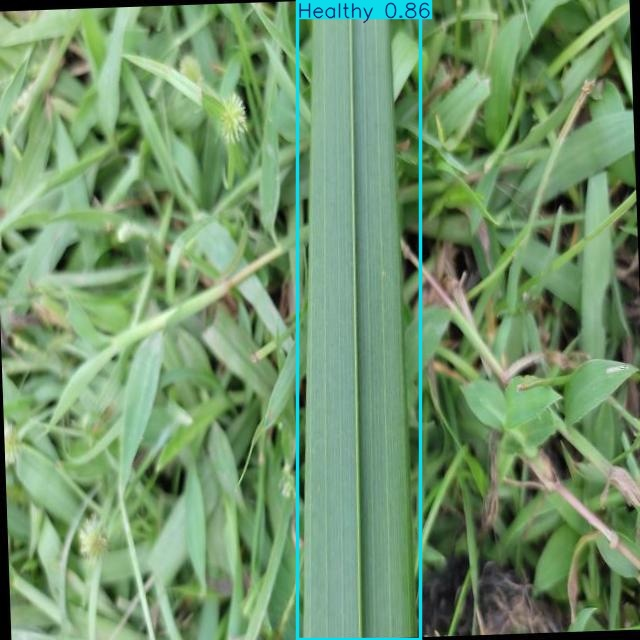Healthy: (298, 0, 421, 640)
